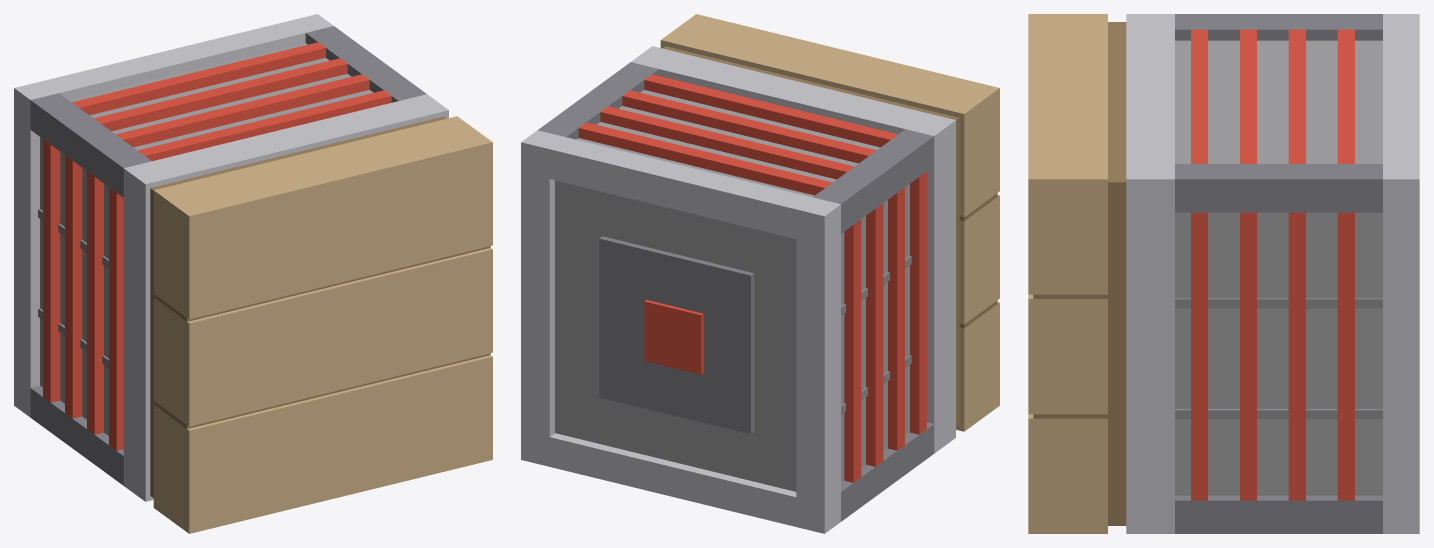
Rendered from piston_4.gltf.
3 renders of one model, left to right at view 1: azimuth 30°, elevation 25°; view 2: azimuth 150°, elevation 25°; view 3: azimuth 270°, elevation 25°, orthographic. The views are drawn at different scales.
Parts seen in each view (by area): view 1: piston_4; view 2: piston_4; view 3: piston_4.
Boxes of the visible parts, box(x1,y1,x2,y2) form: piston_4: box(14, 14, 492, 533); piston_4: box(521, 14, 999, 533); piston_4: box(1028, 14, 1419, 533).
Bounding box in the file's own units: 1 × 1 × 1.
